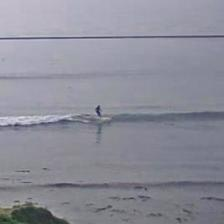surfer: (95, 104, 102, 116)
